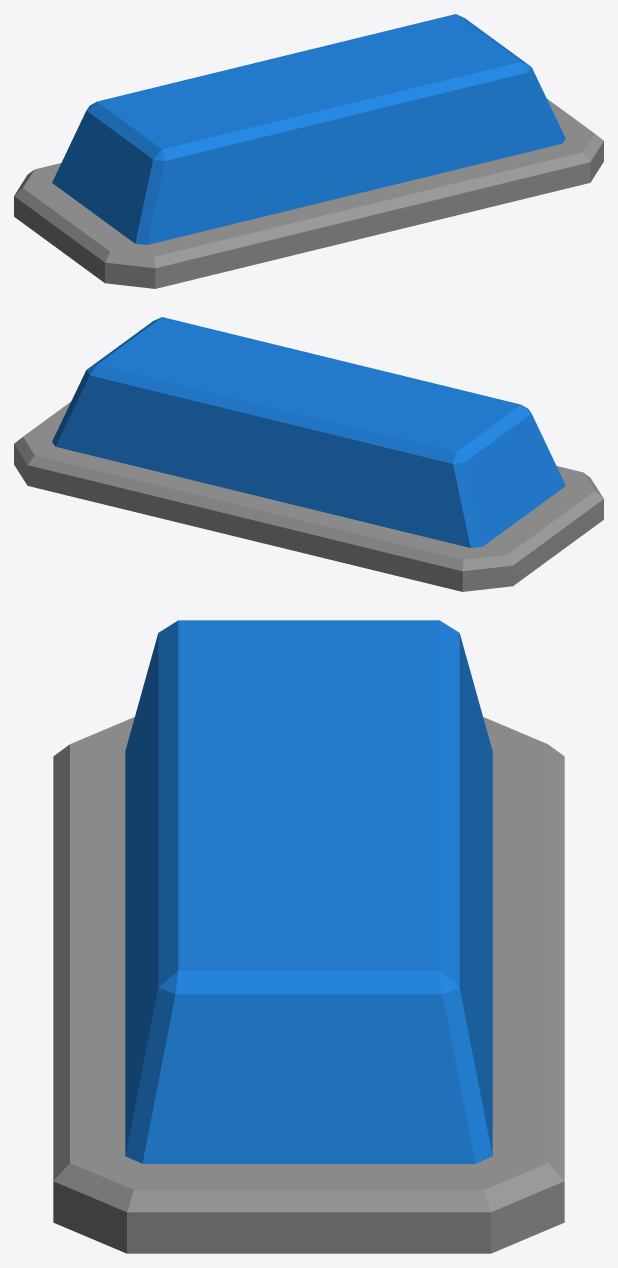
The model's file is OBJ_Lampe_plot.fbx.
3 renders of one model, top to bottom at view 1: azimuth 30°, elevation 25°; view 2: azimuth 150°, elevation 25°; view 3: azimuth 270°, elevation 25°, orthographic. The views are drawn at different scales.
Visible parts, largest first — view 1: Lampe_Plot; view 2: Lampe_Plot; view 3: Lampe_Plot.
Part boxes in pixels (left/top/right/bottom): Lampe_Plot: left=14, top=14, right=603, bottom=288; Lampe_Plot: left=14, top=317, right=603, bottom=591; Lampe_Plot: left=53, top=620, right=564, bottom=1253.
Size of the model in its own units: 47.14 by 9.7 by 20.93.
